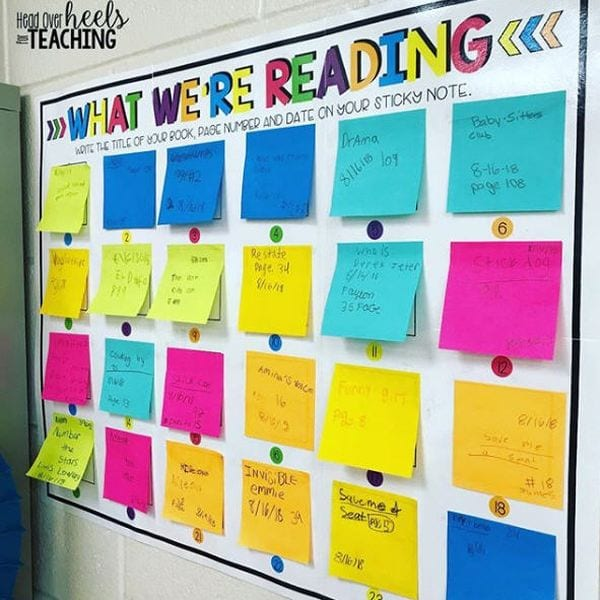stickynote: (439, 372, 576, 516), (441, 85, 569, 219), (440, 231, 559, 368), (322, 475, 427, 600), (322, 358, 426, 481), (328, 104, 432, 221), (321, 235, 430, 346), (436, 507, 561, 600), (237, 455, 321, 566), (239, 347, 323, 453), (236, 239, 317, 341), (237, 122, 316, 222), (145, 243, 229, 329), (157, 345, 228, 439), (161, 439, 229, 537), (153, 140, 228, 228), (83, 242, 158, 326), (26, 410, 97, 495), (99, 426, 159, 520), (94, 335, 157, 423), (99, 148, 161, 234), (40, 328, 97, 412), (35, 158, 94, 238), (37, 245, 93, 321)
